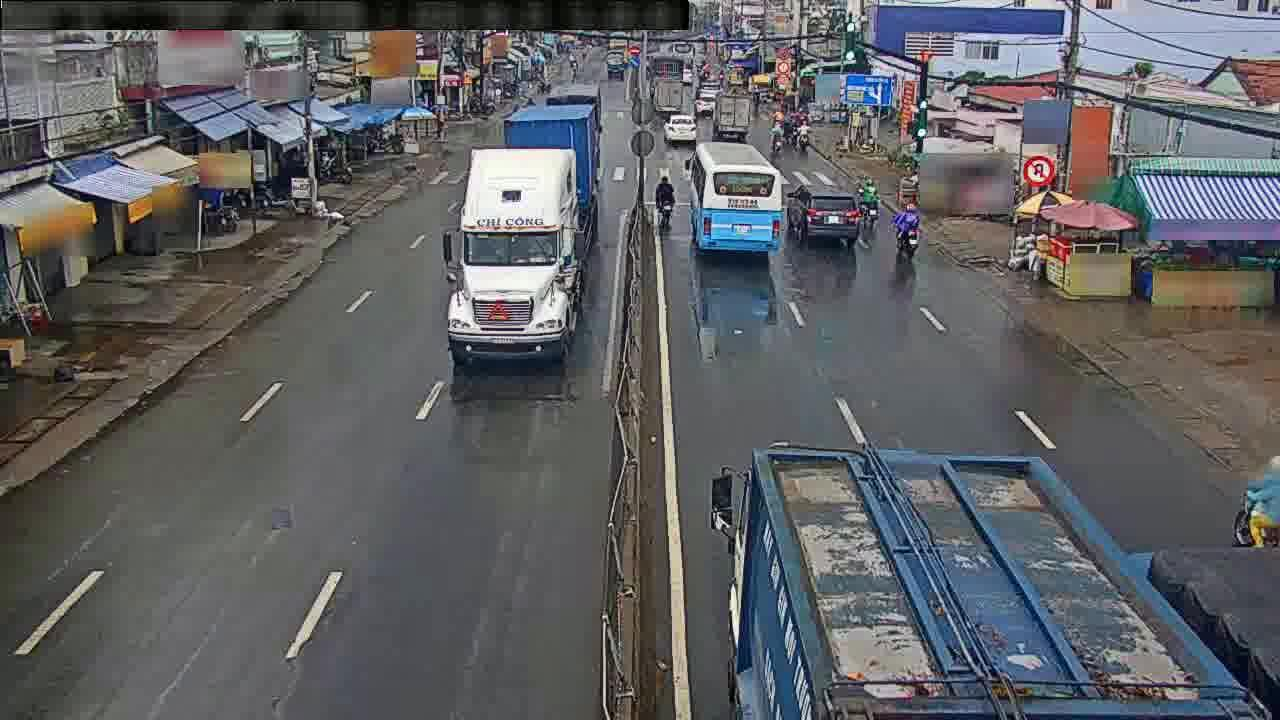car: (790, 179, 861, 241)
container: (697, 433, 1265, 710), (429, 106, 602, 370), (708, 87, 753, 144)
motorbike: (894, 200, 922, 265), (852, 175, 884, 228), (652, 171, 676, 223)
passenger_car: (686, 138, 782, 250)
